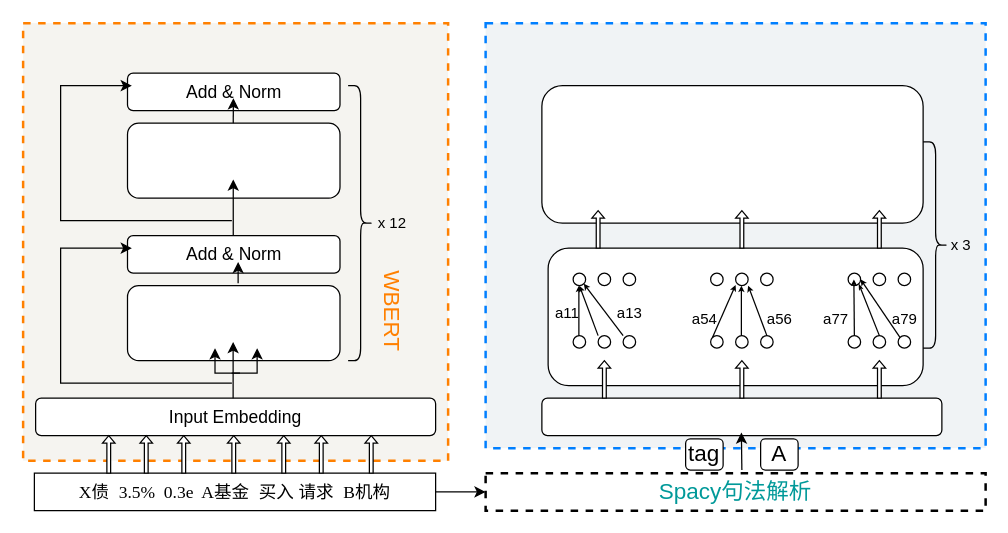
Some shapes in this 1008 by 533 pixel diagram are drawn without their labels. Here are the shapes that lost their labels. From the top down, the box of each, then its label:
(126, 122, 340, 198): Feed Forward
(126, 284, 340, 361): Multi-head Self Attention
(541, 397, 942, 436): Dependency Embedding
